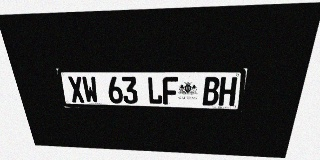3: (121, 77, 138, 104)
6: (106, 77, 123, 104)
B: (202, 77, 220, 106)
F: (162, 77, 178, 105)
H: (218, 77, 237, 106)
L: (147, 77, 162, 104)
W: (81, 76, 99, 103)
X: (67, 76, 85, 103)
